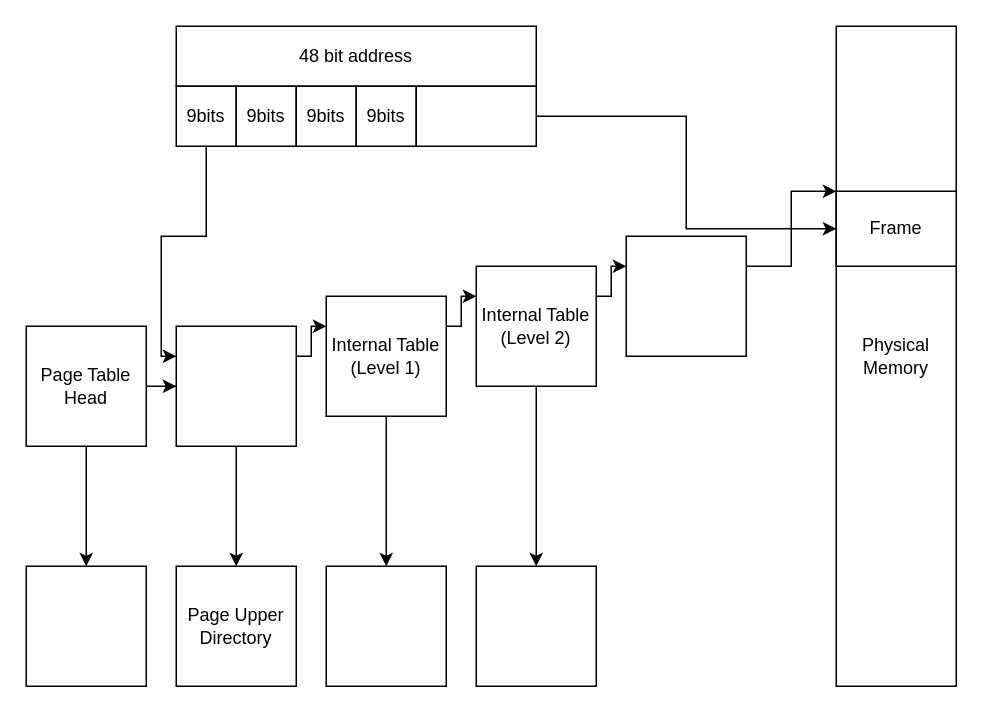
This 983x713 diagram has some shape labels left out. Each missing label, with the centre of its shape:
12bits: point 475,115
Internal Table (Level 0): point 235,385
Leaf Table (Level 3): point 685,295
Page Directory: point 385,625
Page Global Directory: point 85,625
Page Table: point 535,625
